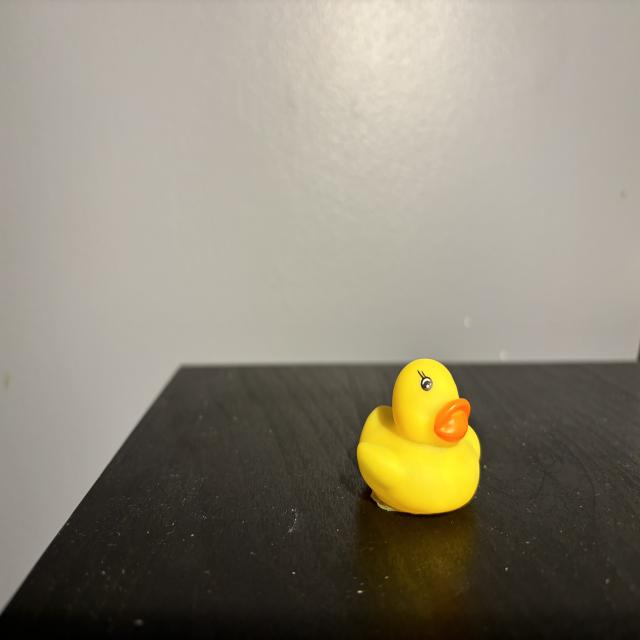duck_regular: (358, 360, 482, 515)
